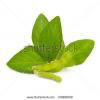Soyabean leaf: (6, 45, 48, 74), (38, 16, 64, 62), (57, 38, 95, 67), (31, 13, 50, 58)
